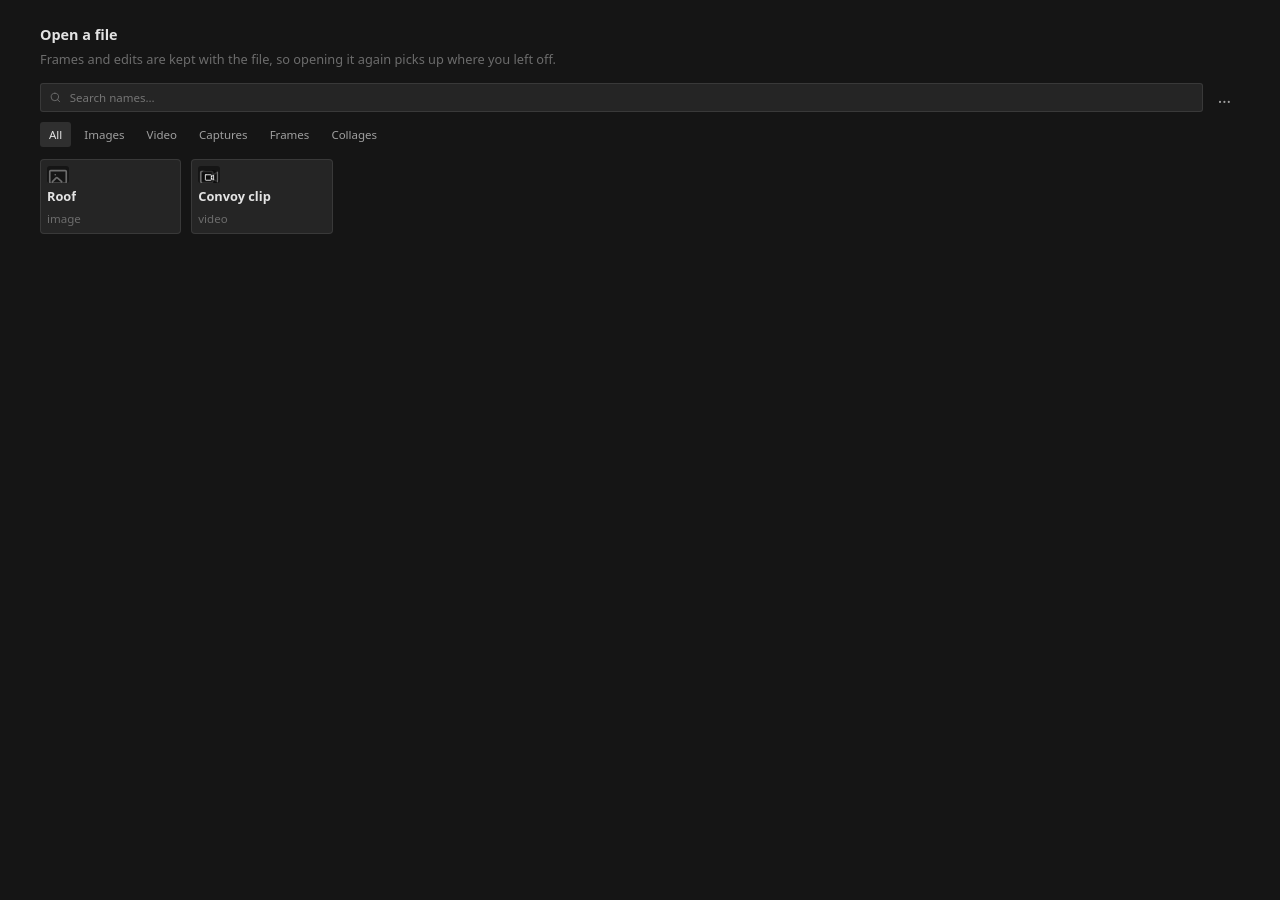
Test: leaving a file › goes back to the file list, writing what was pending first
This screenshot has width=1280, height=900.
Click the button "Roof image": (111, 197) [40,159,181,234]
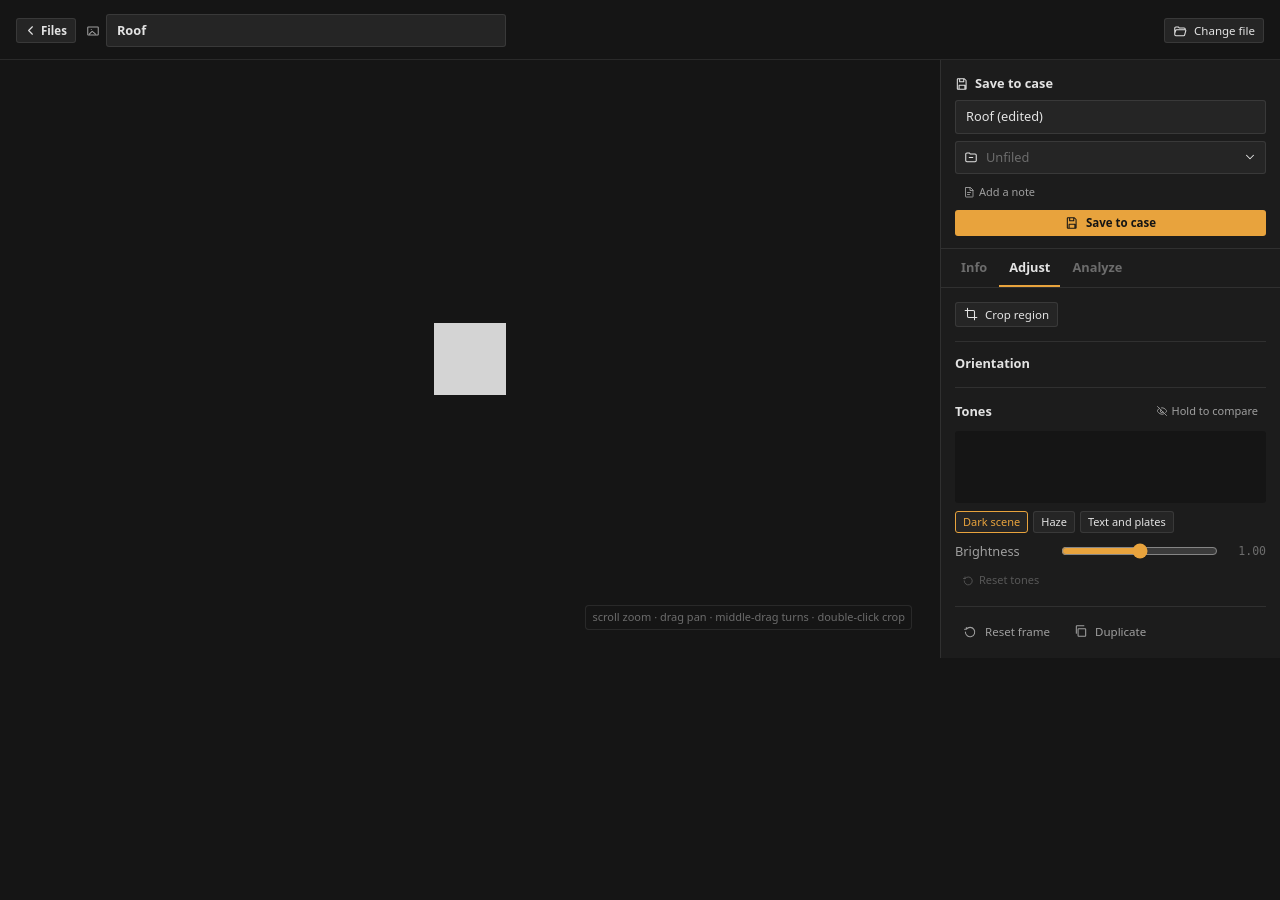
Click the button "Duplicate": (1110, 631) [1065,619,1155,644]
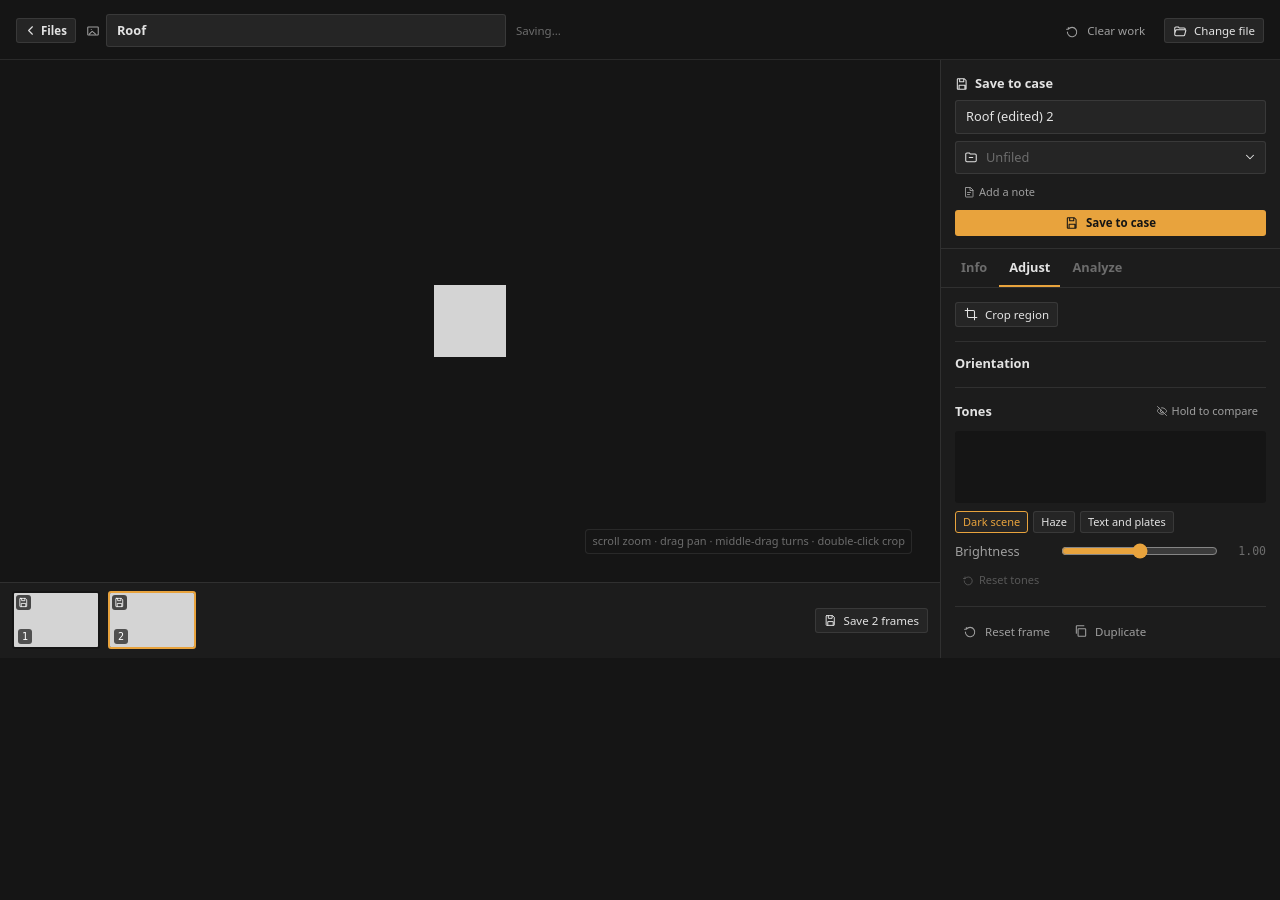
Click the button "Files": (46, 31) [16,18,76,43]
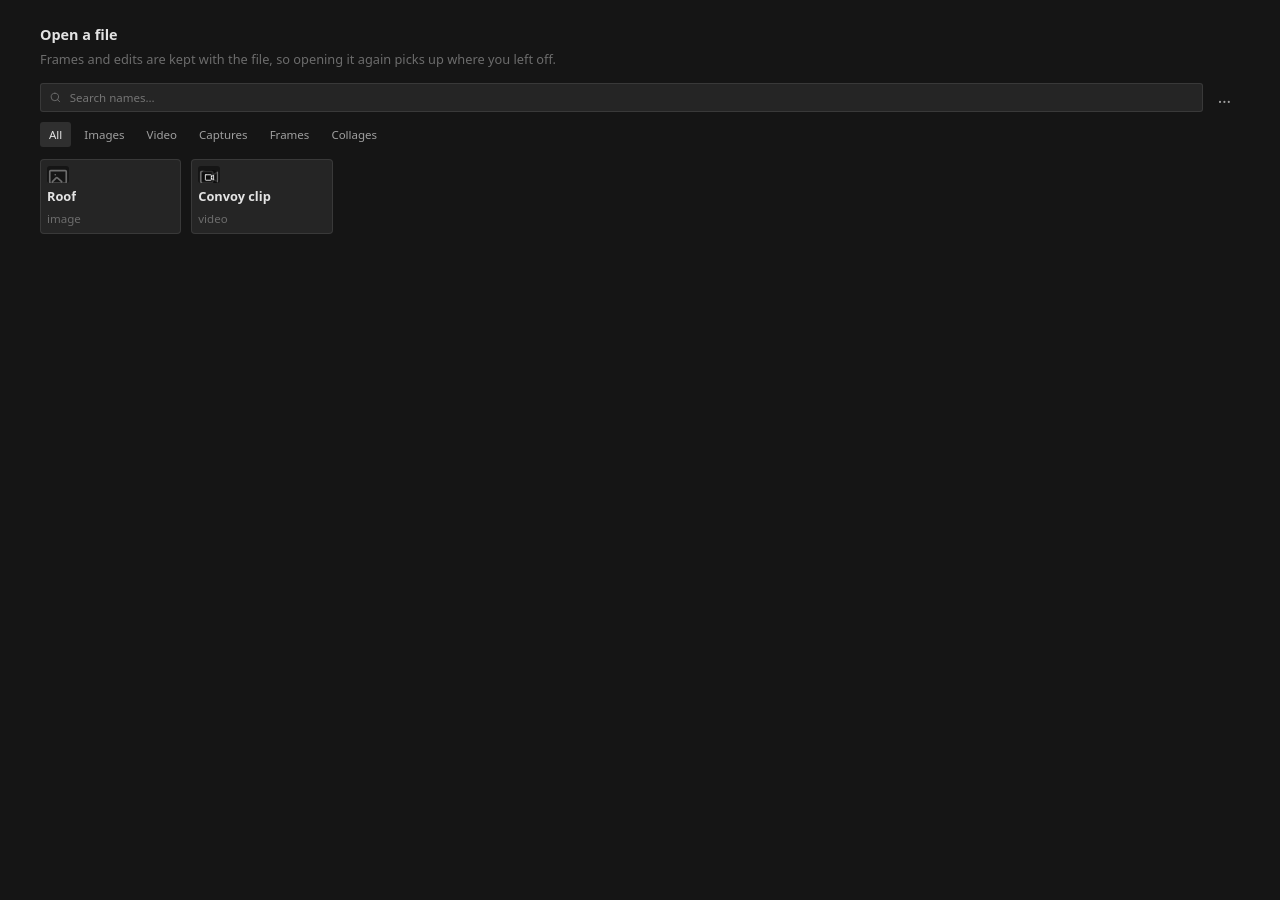
Expected: the text "Open a file" is shown, [40,25,118,44]
Expected: the field with class "file-name" is gone
